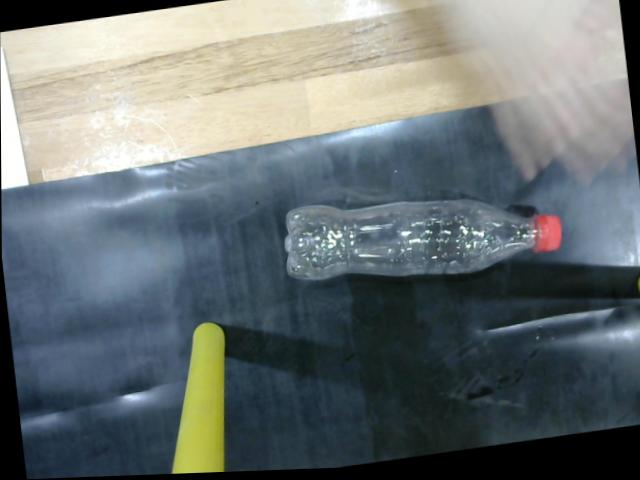bottle: (279, 197, 567, 283)
